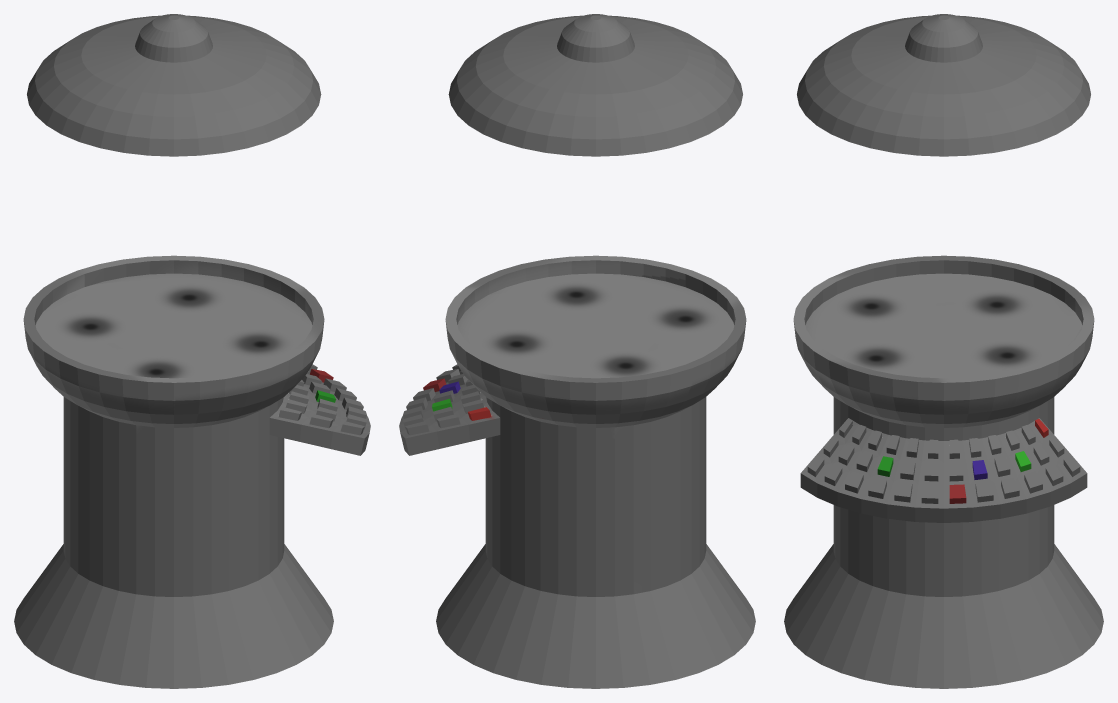
The model's file is BrainChamber.fbx.
3 views of the same model, side by side, from view 1: azimuth 30°, elevation 25°; view 2: azimuth 150°, elevation 25°; view 3: azimuth 270°, elevation 25° (orthographic).
Parts seen in each view (by area): view 1: BrainChamber; view 2: BrainChamber; view 3: BrainChamber.
Part boxes in pixels (x1,y1,x2,y2): BrainChamber: [14, 14, 370, 688]; BrainChamber: [399, 14, 755, 688]; BrainChamber: [784, 14, 1103, 688].
Bounding box in the file's own units: 318 × 604 × 290.
